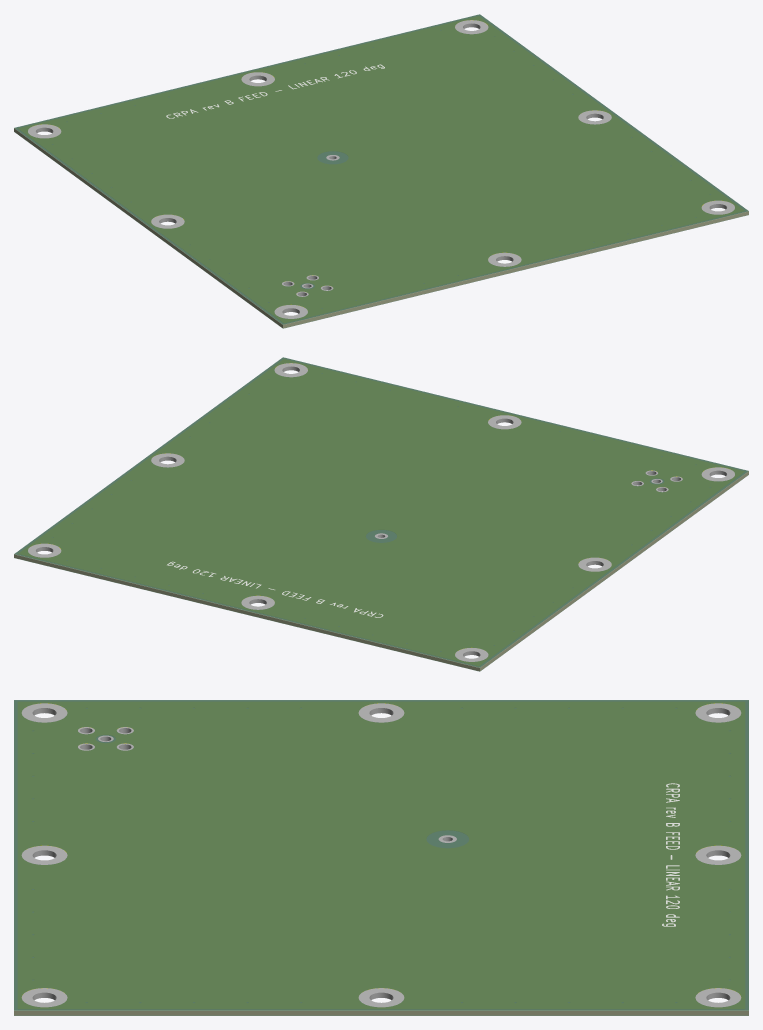
The model's file is feed_linear_120.glb.
3 renders of one model, top to bottom at view 1: azimuth 30°, elevation 25°; view 2: azimuth 150°, elevation 25°; view 3: azimuth 270°, elevation 25°, orthographic. The views are drawn at different scales.
Visible parts, largest first — view 1: =>[0:1:1:9], =>[0:1:1:4], =>[0:1:1:11], =>[0:1:1:5], =>[0:1:1:10]; view 2: =>[0:1:1:9], =>[0:1:1:4], =>[0:1:1:11], =>[0:1:1:5], =>[0:1:1:10]; view 3: =>[0:1:1:9], =>[0:1:1:4], =>[0:1:1:11], =>[0:1:1:5], =>[0:1:1:7], =>[0:1:1:10].
Part boxes in pixels (x1=…): =>[0:1:1:9]: x1=14, y1=14, x2=748, y2=324; =>[0:1:1:4]: x1=19, y1=16, x2=743, y2=322; =>[0:1:1:11]: x1=14, y1=15, x2=748, y2=328; =>[0:1:1:5]: x1=28, y1=20, x2=734, y2=318; =>[0:1:1:10]: x1=15, y1=132, x2=748, y2=328; =>[0:1:1:9]: x1=14, y1=357, x2=748, y2=667; =>[0:1:1:4]: x1=19, y1=359, x2=743, y2=665; =>[0:1:1:11]: x1=14, y1=358, x2=748, y2=671; =>[0:1:1:5]: x1=28, y1=363, x2=734, y2=661; =>[0:1:1:10]: x1=14, y1=475, x2=747, y2=671; =>[0:1:1:9]: x1=14, y1=700, x2=748, y2=1010; =>[0:1:1:4]: x1=18, y1=702, x2=744, y2=1008; =>[0:1:1:11]: x1=14, y1=701, x2=748, y2=1015; =>[0:1:1:5]: x1=21, y1=703, x2=741, y2=1007; =>[0:1:1:7]: x1=662, y1=783, x2=679, y2=926; =>[0:1:1:10]: x1=14, y1=1015, x2=748, y2=1015.
Size of the model in its own units: 0.096 by 0.00163 by 0.096.
